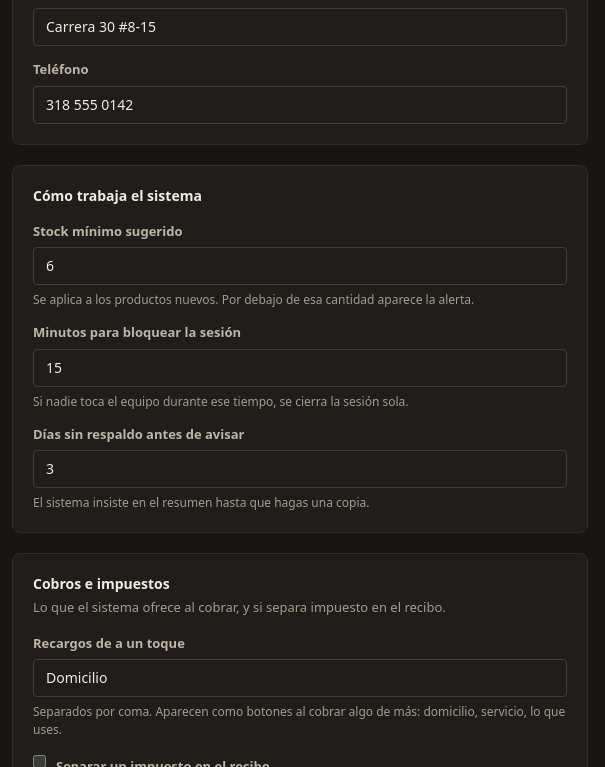
it: guardar › vuelve a leer los ajustes para que rijan sin reiniciar
(page scrolled)
Replace the text in the field labelled "Minutos para bloquear la sesión" with "5" at (300, 368), box [33, 348, 567, 386]
(page scrolled)
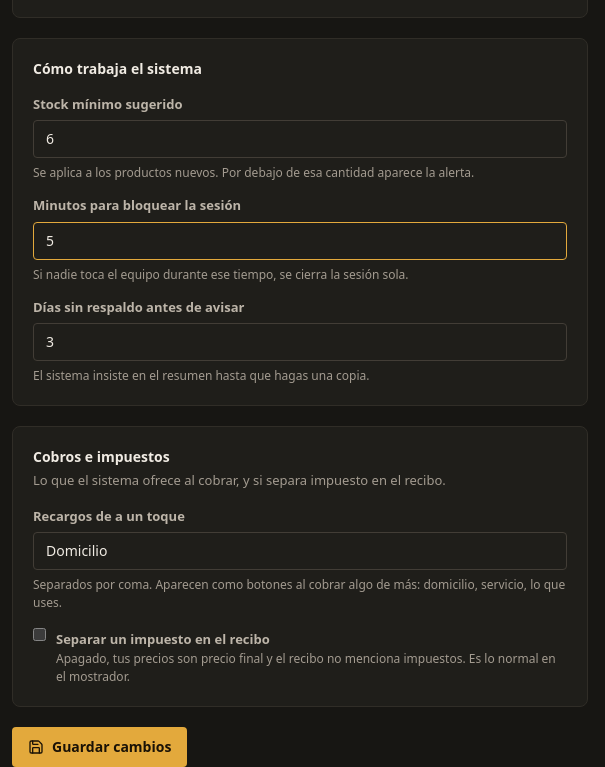
Click the button "Guardar cambios" at (100, 747), box [12, 727, 187, 766]
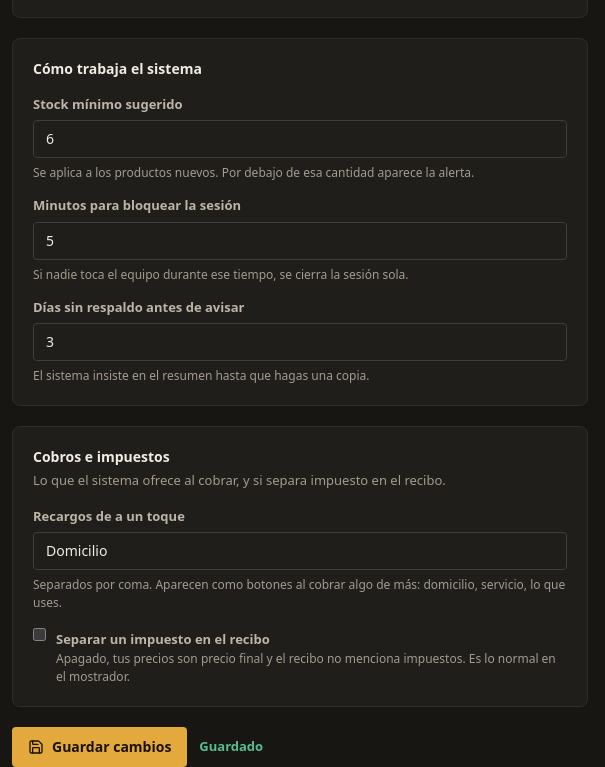
Expected: the text "Guardado" is shown, [199, 737, 263, 757]
